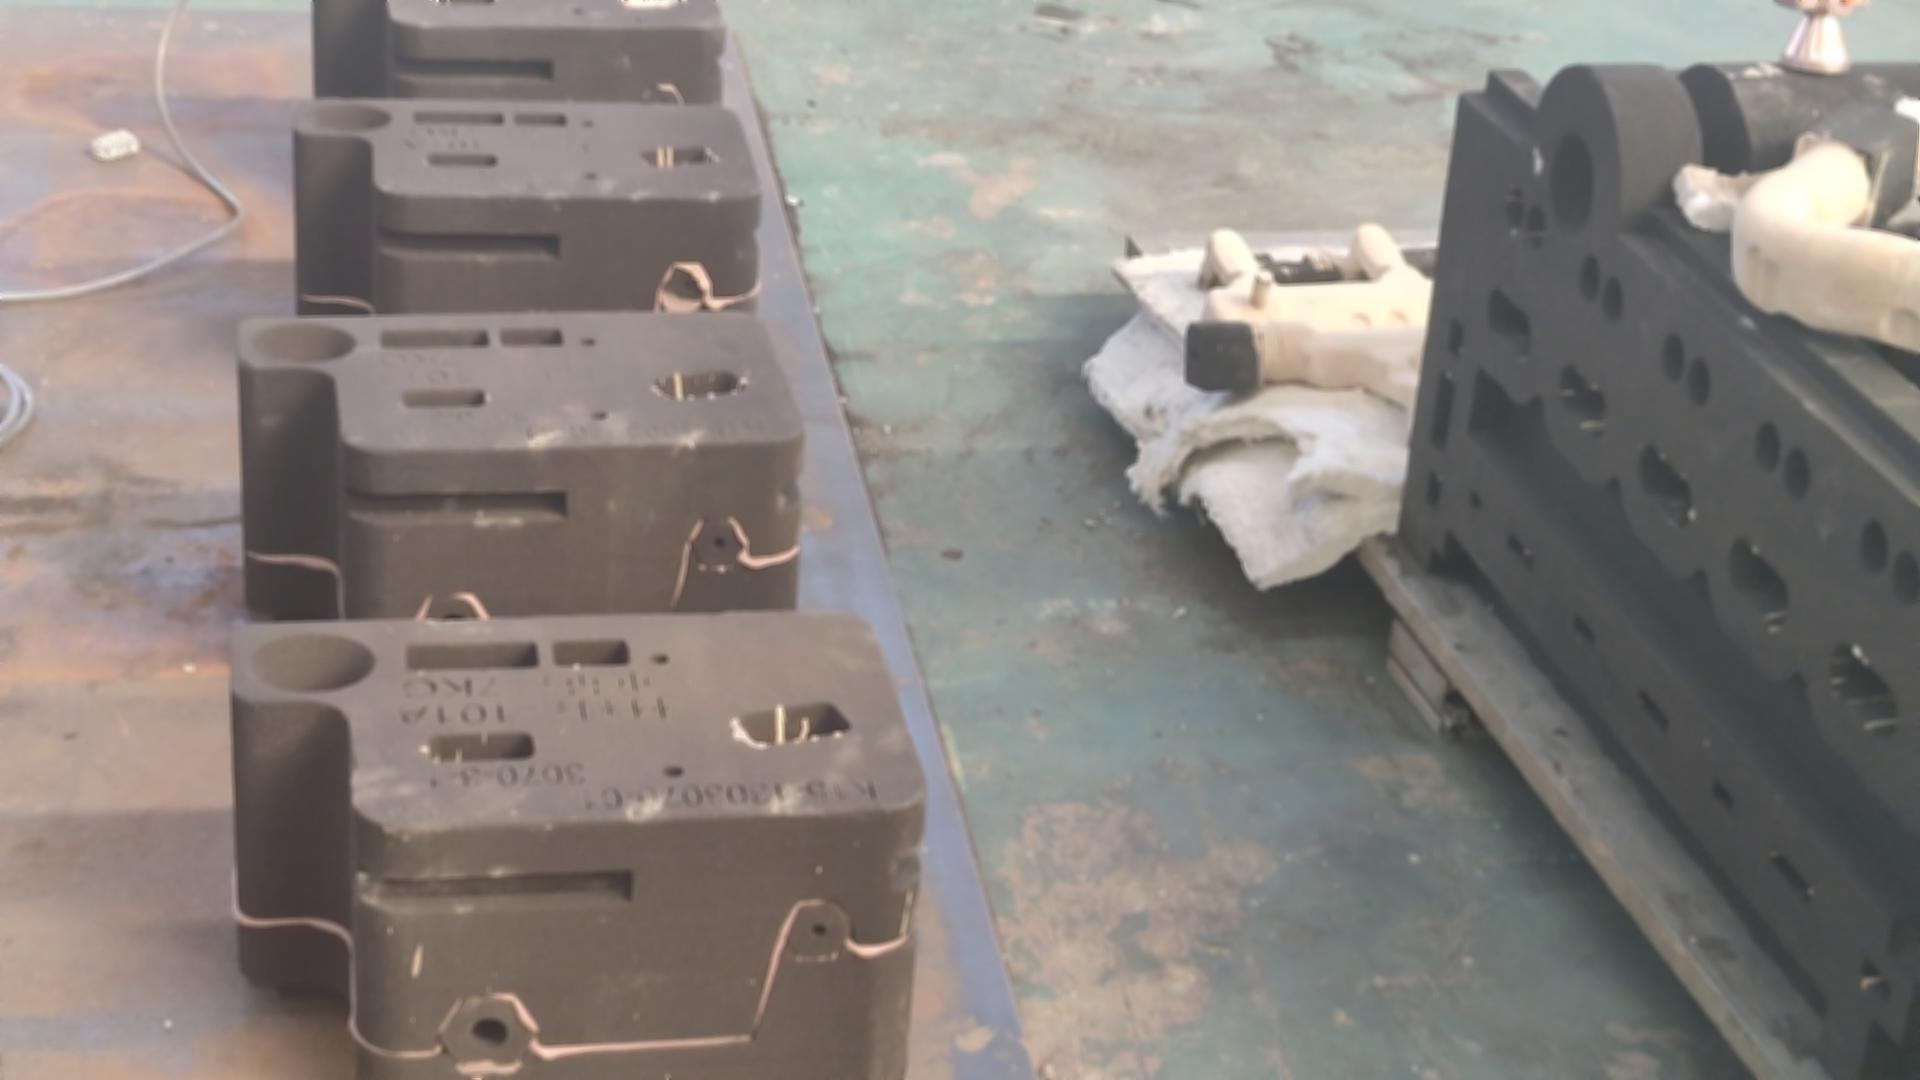pouring hole: (251, 633, 378, 694), (1545, 133, 1593, 237), (249, 323, 357, 363), (303, 102, 392, 135)
